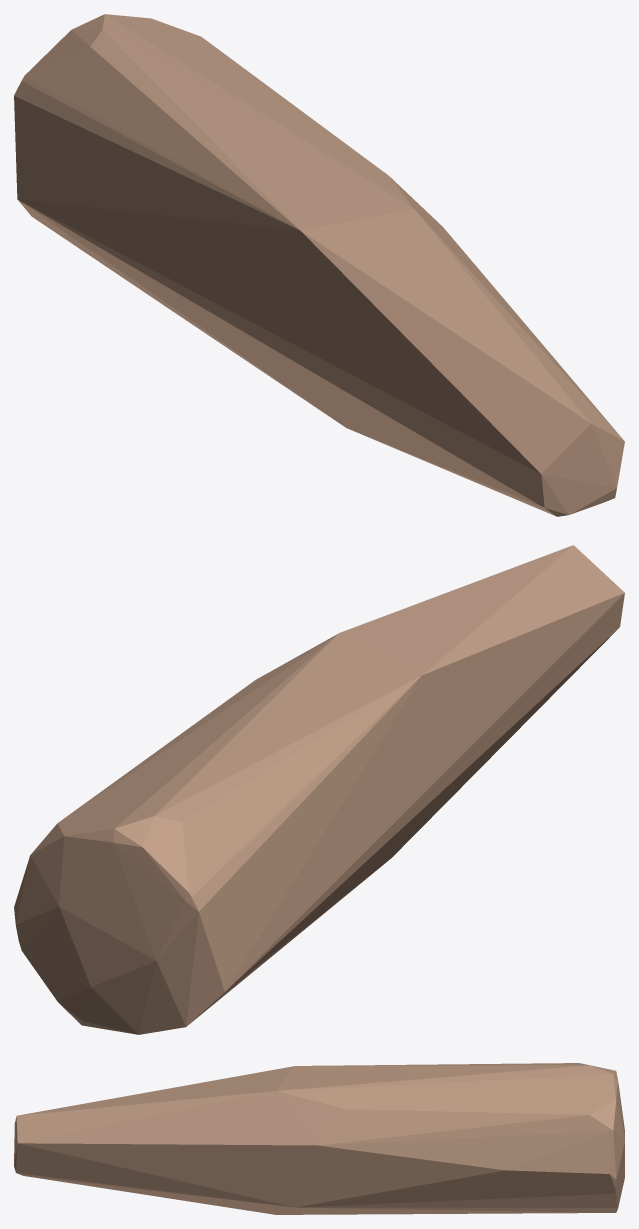
The model's file is food_beverage_beerBottle_j01.glb.
3 views of the same model, one above another, from view 1: azimuth 30°, elevation 25°; view 2: azimuth 150°, elevation 25°; view 3: azimuth 270°, elevation 25° (orthographic). The views are drawn at different scales.
Visible parts, largest first — view 1: geometry_0; view 2: geometry_0; view 3: geometry_0.
Boxes of the visible parts, box(x1,y1,x2,y2) form: geometry_0: box(14, 14, 624, 516); geometry_0: box(14, 545, 624, 1034); geometry_0: box(14, 1063, 624, 1214).
Size of the model in its own units: 0.1185 by 0.1197 by 0.48.
